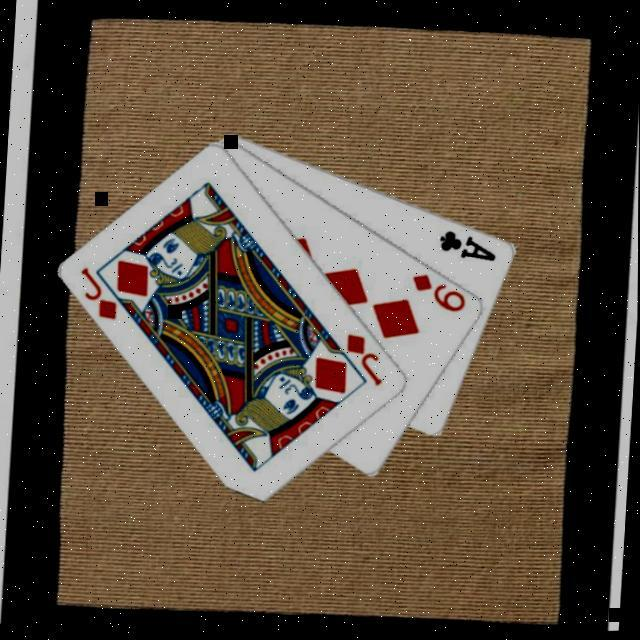9D: (409, 273, 473, 320)
AC: (438, 229, 502, 269)
JD: (343, 332, 391, 393), (77, 266, 125, 327)
